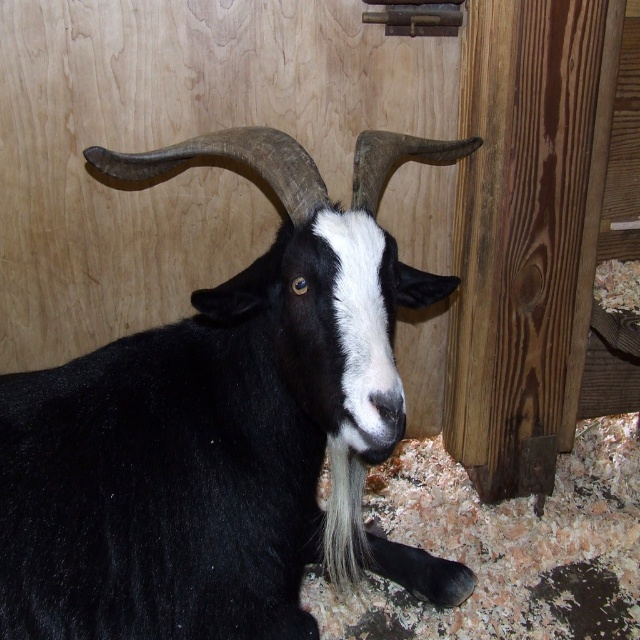Goat: (0, 125, 484, 637)
